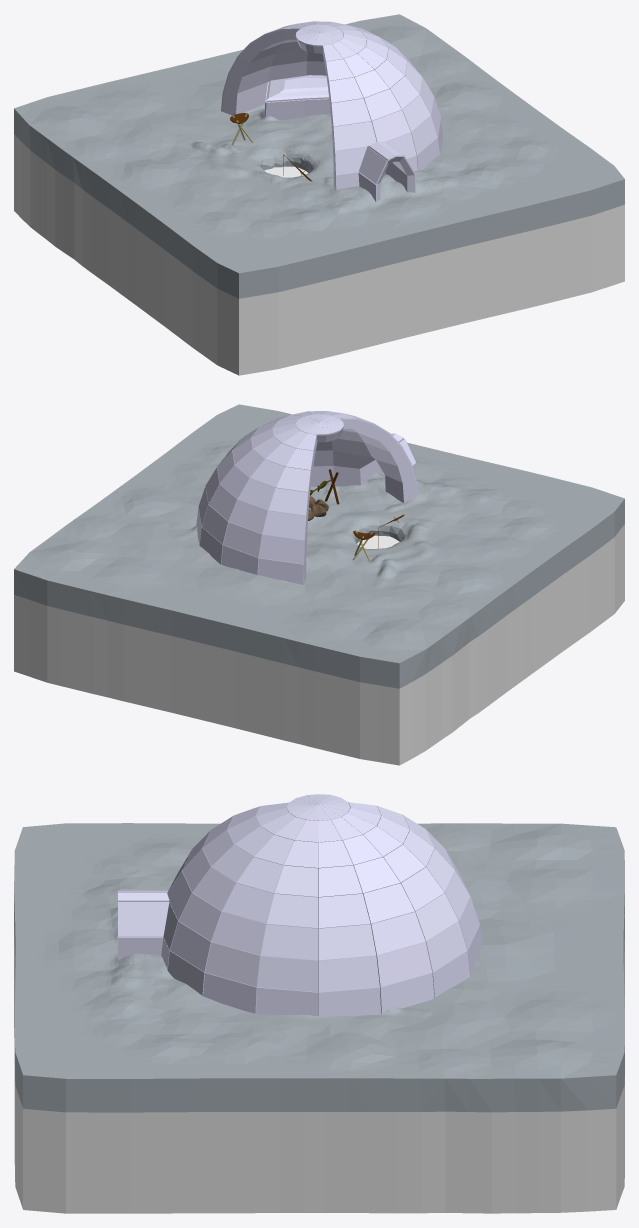
Rendered from igloo.glb.
3 views of the same model, one above another, from view 1: azimuth 30°, elevation 25°; view 2: azimuth 150°, elevation 25°; view 3: azimuth 270°, elevation 25° (orthographic). The views are drawn at different scales.
Parts seen in each view (by area): view 1: Banquise, Igloo; view 2: Banquise, Igloo, Chaise; view 3: Banquise, Igloo.
Part boxes in pixels (left/top/right/bottom): Banquise: left=14, top=14, right=624, bottom=375; Igloo: left=221, top=21, right=443, bottom=201; Banquise: left=14, top=404, right=624, bottom=765; Igloo: left=196, top=411, right=418, bottom=584; Chaise: left=310, top=469, right=404, bottom=561; Banquise: left=14, top=823, right=624, bottom=1213; Igloo: left=118, top=794, right=482, bottom=1016.
Size of the model in its own units: 372 by 191 by 376.
